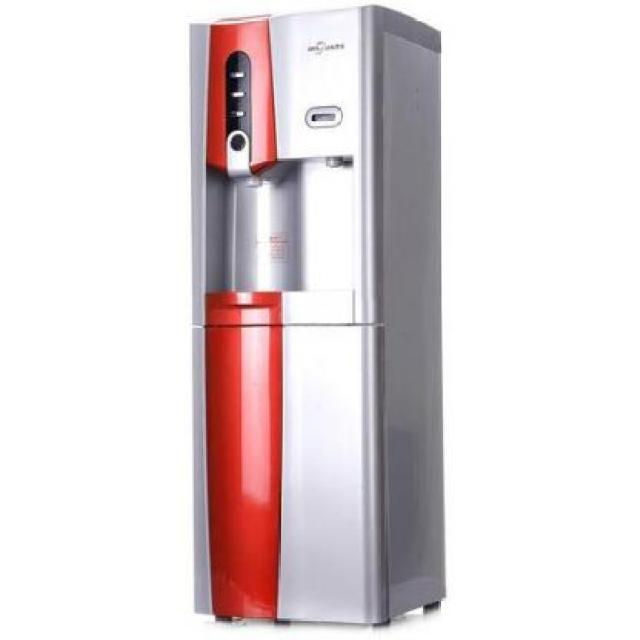cooler: (185, 2, 449, 626)
